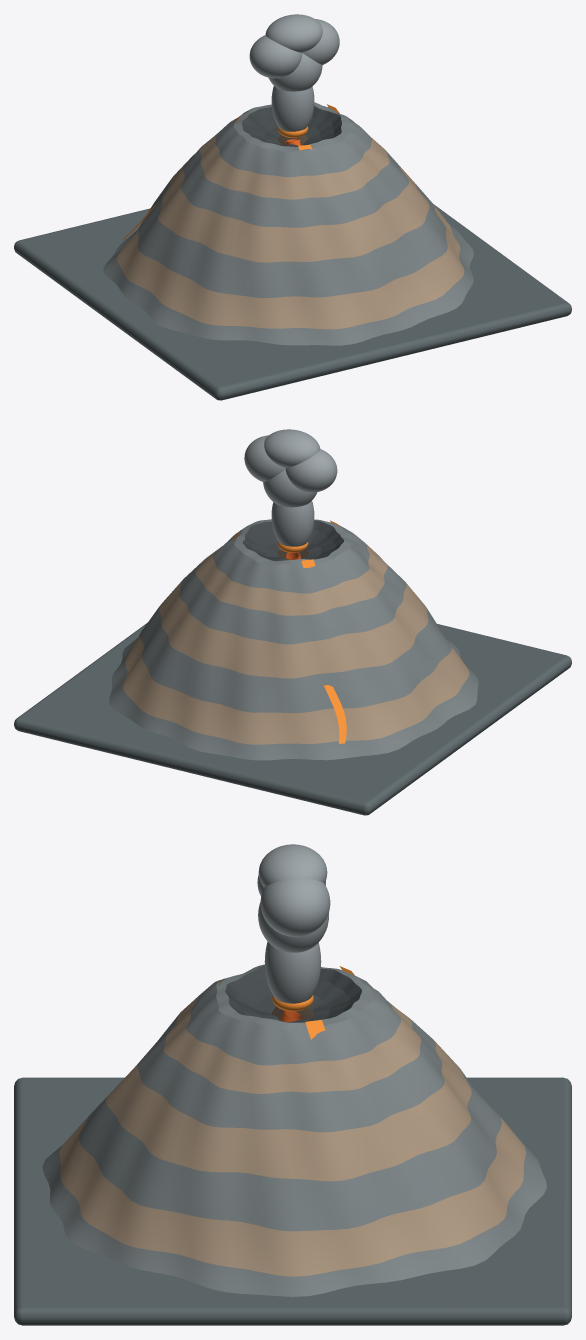
File: volcano-cutaway.glb
The picture shows the model from 3 angles, top to bottom: view 1: azimuth 30°, elevation 25°; view 2: azimuth 150°, elevation 25°; view 3: azimuth 270°, elevation 25°; orthographic projection. The views are drawn at different scales.
Visible parts, largest first — view 1: Composite stratovolcano and crater bowl, Basalt display plinth, Ash plume crown, Ash column lower, Ash plume billow left, Ash column upper, Ash plume billow right; view 2: Composite stratovolcano and crater bowl, Basalt display plinth, Ash plume crown, Ash column lower, Ash plume billow left, Ash column upper, Ash plume billow right, Lava flow.001; view 3: Composite stratovolcano and crater bowl, Basalt display plinth, Ash plume billow right, Ash column lower, Ash plume crown, Ash column upper.
Boxes of the visible parts, bbox=[...] form: Composite stratovolcano and crater bowl: bbox=[103, 102, 473, 345]; Basalt display plinth: bbox=[14, 204, 571, 400]; Ash plume crown: bbox=[265, 14, 322, 52]; Ash column lower: bbox=[271, 86, 314, 131]; Ash plume billow left: bbox=[249, 35, 302, 78]; Ash column upper: bbox=[268, 53, 322, 91]; Ash plume billow right: bbox=[302, 19, 339, 64]; Composite stratovolcano and crater bowl: bbox=[109, 519, 478, 760]; Basalt display plinth: bbox=[14, 622, 571, 815]; Ash plume crown: bbox=[264, 429, 320, 467]; Ash column lower: bbox=[271, 501, 314, 546]; Ash plume billow left: bbox=[285, 449, 337, 492]; Ash column upper: bbox=[263, 469, 317, 507]; Ash plume billow right: bbox=[244, 435, 285, 482]; Lava flow.001: bbox=[301, 559, 346, 743]; Composite stratovolcano and crater bowl: bbox=[42, 964, 546, 1296]; Basalt display plinth: bbox=[14, 1077, 571, 1325]; Ash plume billow right: bbox=[260, 878, 330, 936]; Ash column lower: bbox=[264, 941, 321, 1003]; Ash plume crown: bbox=[258, 844, 327, 887]; Ash column upper: bbox=[258, 902, 328, 952].
Bounding box in the file's own units: 9.1 × 6.5 × 9.1.
